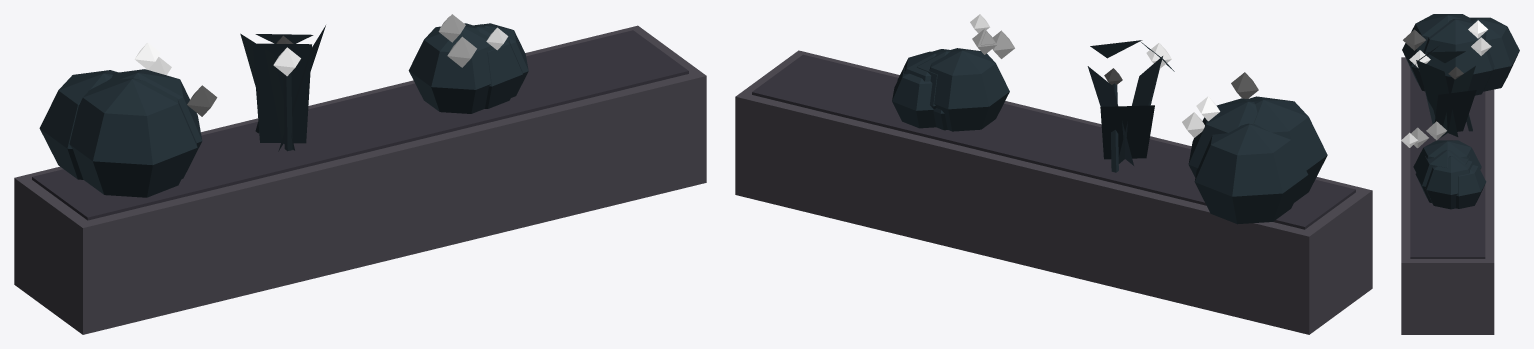
File: planter_trough_a.glb
The picture shows the model from 3 angles, left to right: view 1: azimuth 30°, elevation 25°; view 2: azimuth 150°, elevation 25°; view 3: azimuth 270°, elevation 25°; orthographic projection. The views are drawn at different scales.
Visible parts, largest first — view 1: planter_trough_a; view 2: planter_trough_a; view 3: planter_trough_a.
Part boxes in pixels (bbox=[...]): planter_trough_a: bbox=[14, 14, 706, 334]; planter_trough_a: bbox=[735, 14, 1372, 334]; planter_trough_a: bbox=[1401, 14, 1519, 334].
Bounding box in the file's own units: 2.2 × 0.7562 × 0.5381.
Materials: 4 (1 with a texture image).
